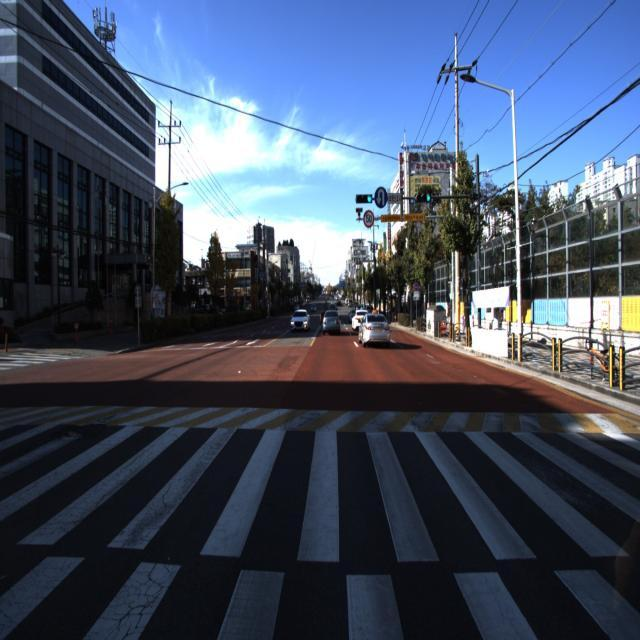crosswalk: (0, 423, 640, 639), (0, 352, 86, 373)
